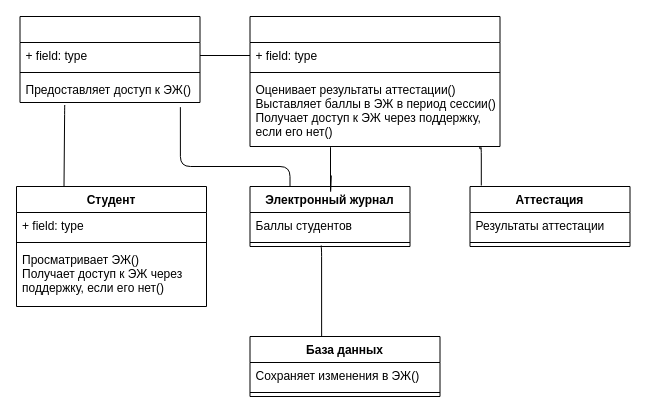
This 646x413 diagram has some shape labels left out. Here are the shapes that lost their labels. From the top down, the box of each, then its label:
(19, 16, 200, 102): Поддержка
(249, 16, 500, 146): Преподаватель
